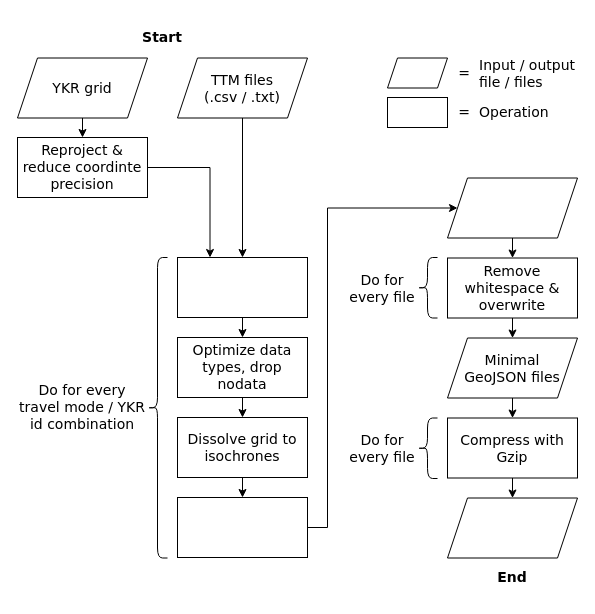
This 595x614 diagram has some shape labels left out. Here are the shapes that lost their labels. From the top down, the centre of each, then its label:
At point (512, 207): "GeoJSON files".
At point (242, 287): "Merge travel times to grid".
At point (242, 527): "Write isochrones to GeoJSON file".
At point (512, 527): "Compressed & minimal files".
